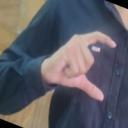hand: (40, 30, 117, 102)
